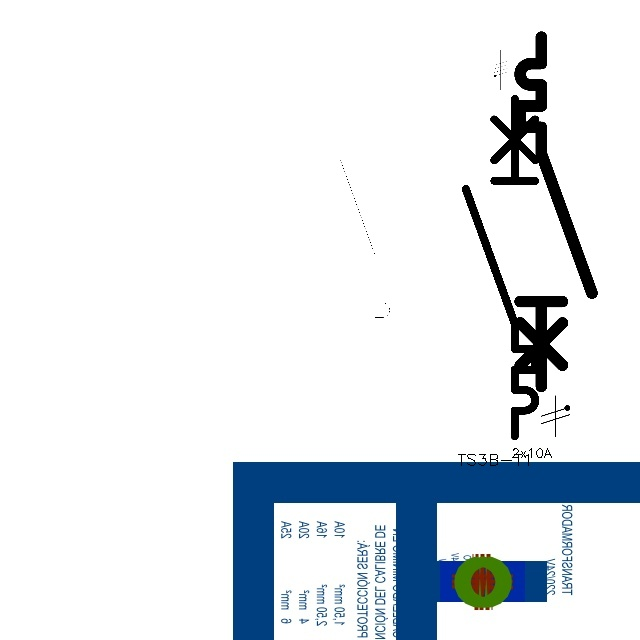interruptor_termomagnetico: (511, 28, 601, 395), (457, 90, 544, 445), (334, 89, 396, 342)
